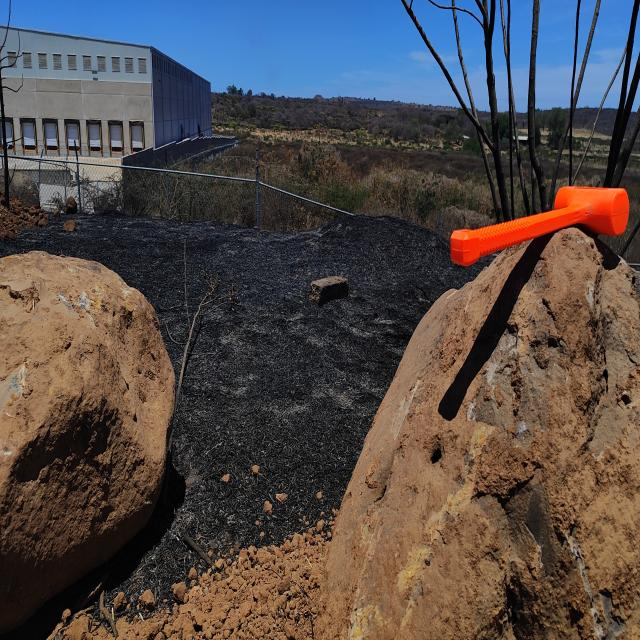Orange_hammer: (449, 184, 630, 268)
rock: (0, 247, 178, 574)
